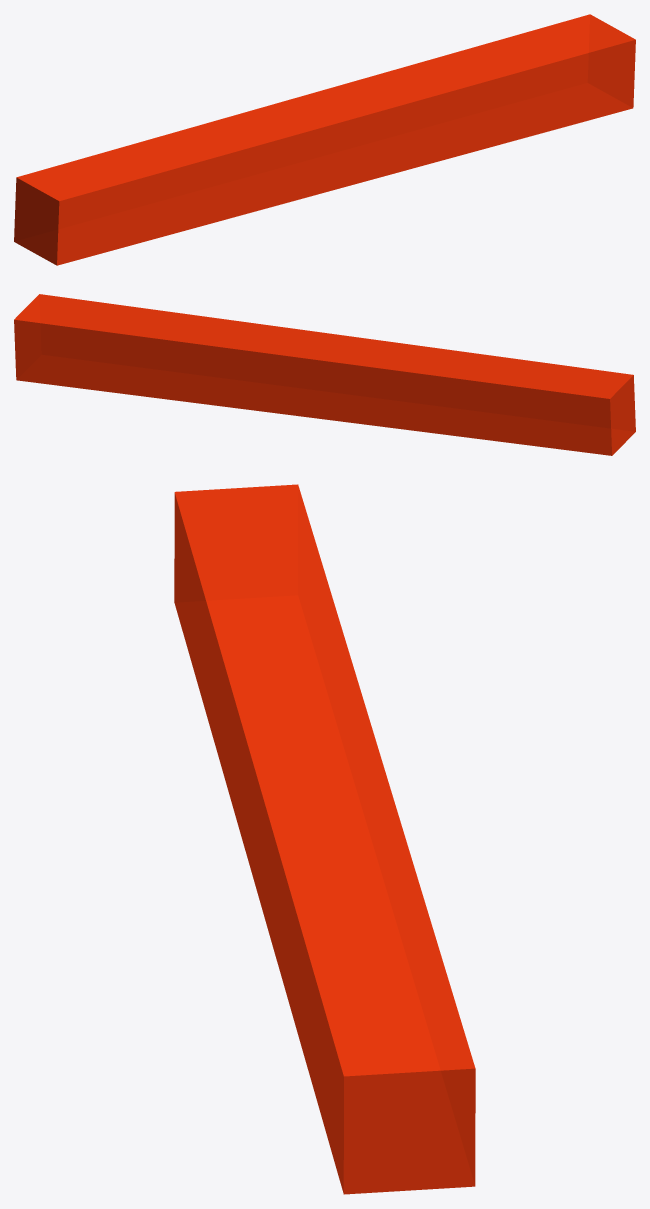
Rendered from Event_421278790_EErechit_54.fbx.
3 renders of one model, top to bottom at view 1: azimuth 30°, elevation 25°; view 2: azimuth 150°, elevation 25°; view 3: azimuth 270°, elevation 25°, orthographic. The views are drawn at different scales.
Visible parts, largest first — view 1: Model; view 2: Model; view 3: Model.
Part boxes in pixels (bbox=[...]): Model: bbox=[14, 14, 635, 265]; Model: bbox=[14, 294, 635, 455]; Model: bbox=[174, 484, 475, 1194].
Size of the model in its own units: 0.7544 by 0.1069 by 0.1752.
